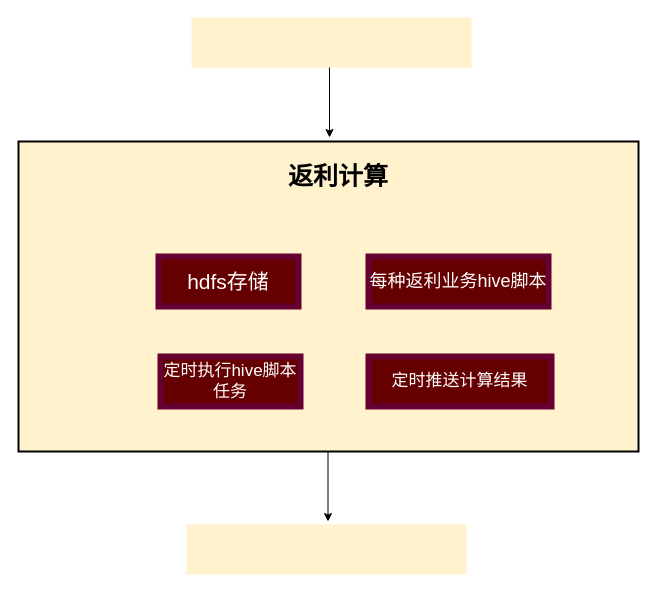
Some shapes in this 656 by 591 pixel diagram are drawn without their labels. The centre of each missing label's shape, as x and y in pixels:
"所有待推送的返利规则 列表" belongs at point (331, 42).
"满足返利规则的计算结果列表" belongs at point (326, 549).
